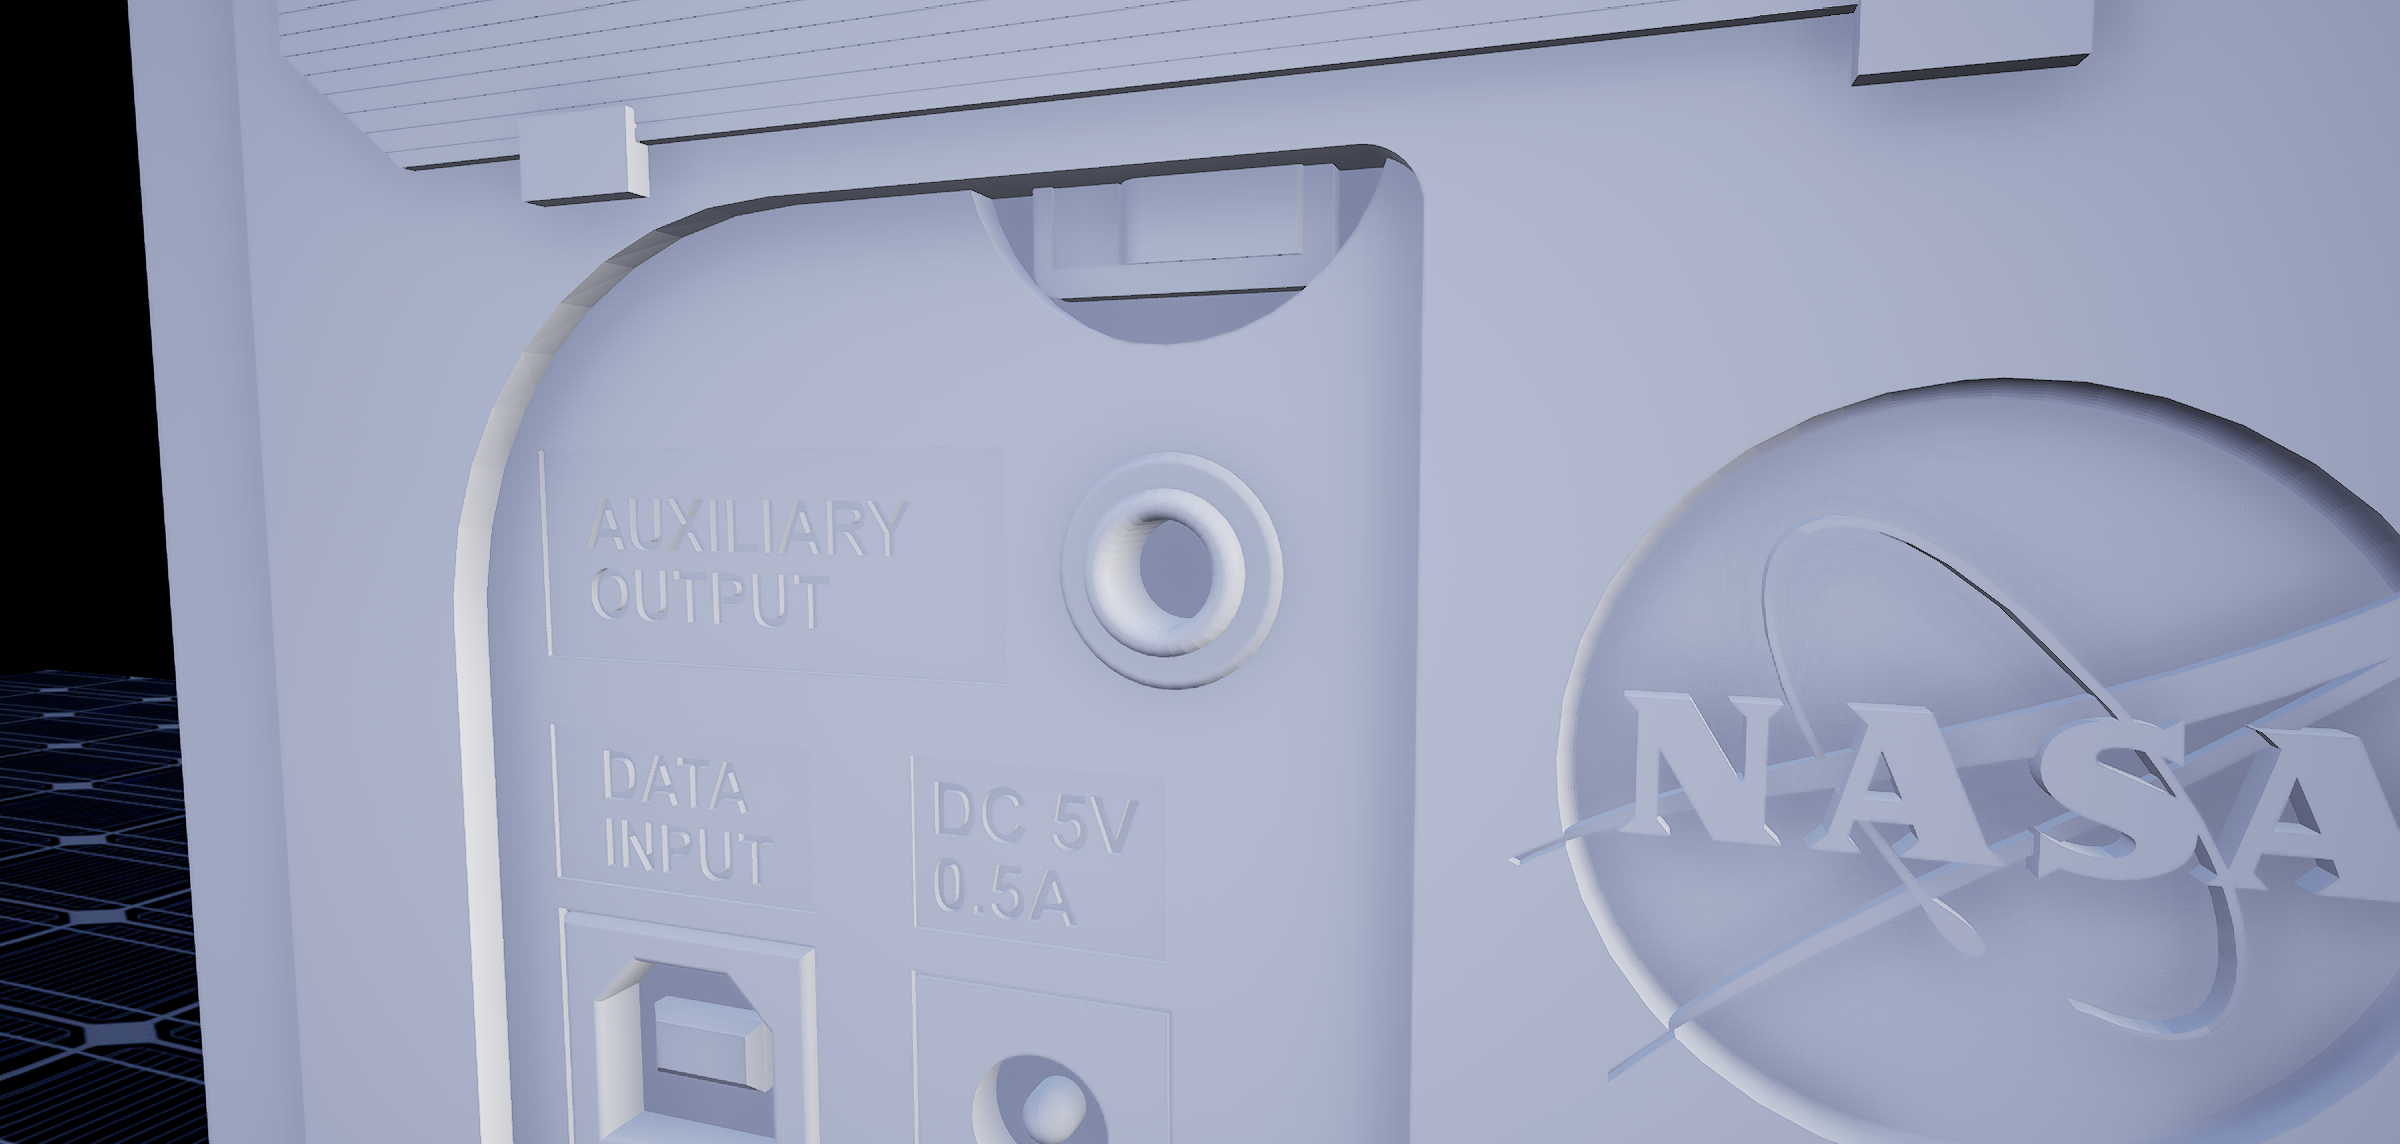aux: (1039, 450, 1315, 704)
dc: (963, 1037, 1125, 1144)
usb: (585, 948, 781, 1144)
